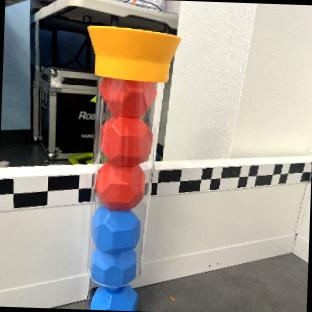V5_BLUE: (91, 206, 140, 250), (90, 247, 137, 285), (90, 285, 136, 311)
V5_RED: (99, 116, 153, 165), (98, 75, 160, 117), (95, 161, 146, 210)
